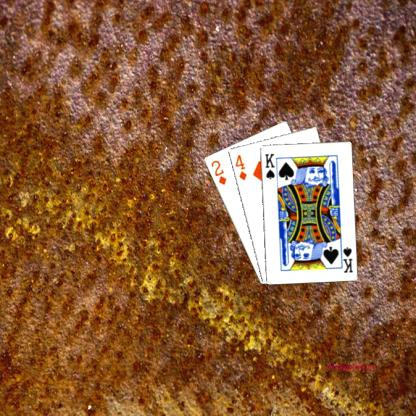2D: (208, 157, 228, 186)
4D: (232, 152, 248, 181)
KS: (338, 242, 354, 273), (262, 151, 275, 180)
